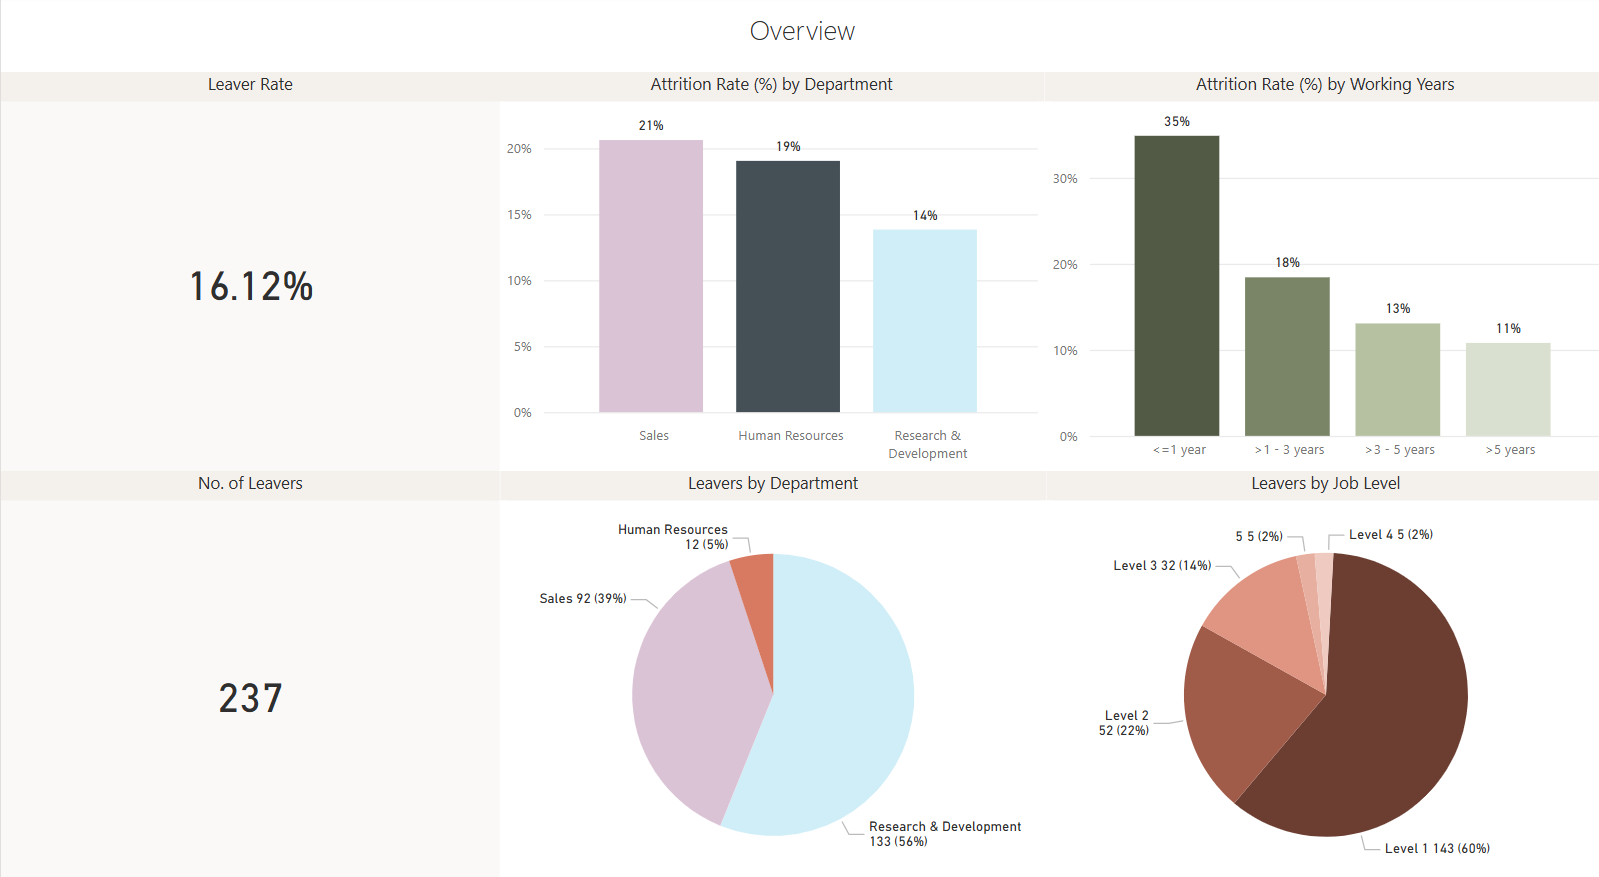

Layout of this report page (visuals, bound fields, positions):
{"tool":"powerbi","page":{"name":"Overview of Leavers","canvas":[1280,720],"ordinal":0},"visuals":[{"type":"card","title":"Leaver Rate","fields":{"Values":["HR Data_20250501.Atttrition Rate (%)"]},"box":[0,62.5,397.9,318.5],"z":0},{"type":"clusteredColumnChart","fields":{"Y":["HR Data_20250501.Atttrition Rate (%)"],"Category":["HR Data_20250501.Department"]},"box":[397.9,62.5,435.1,318.5],"z":1000},{"type":"clusteredColumnChart","title":"Attrition Rate (%) by Working Years","fields":{"Y":["HR Data_20250501.Atttrition Rate (%)"],"Category":["Legend_YearsInCompany.Legend_YearsInCompany"]},"box":[833,62.5,447.1,318.5],"z":2000},{"type":"card","title":"No. of Leavers","fields":{"Values":["Sum(HR Data_20250501.EmployeeCount)"]},"box":[0,381,397.9,339],"z":3000},{"type":"pieChart","title":"Leavers by Department","fields":{"Category":["HR Data_20250501.Department"],"Y":["Sum(HR Data_20250501.EmployeeCount)"]},"box":[399.1,381,435.1,339],"z":4000},{"type":"pieChart","title":"Leavers by Job Level","fields":{"Category":["HR Data_20250501.JobLevel"],"Y":["Sum(HR Data_20250501.EmployeeCount)"]},"box":[834.2,381,445.9,339],"z":5000},{"type":"textbox","box":[0,8.4,1278.9,39.7],"z":6000}]}

Visuals, with their boxes in screenshot pixels (x1, y1, x2, y2), scaled from the page's 1280x720 canvas onto the 1599x877 screenshot:
"Leaver Rate" card: 0/76/497/464
clusteredColumnChart - HR Data_20250501.Atttrition Rate (%) x HR Data_20250501.Department: 497/76/1041/464
"Attrition Rate (%) by Working Years" clusteredColumnChart: 1041/76/1598/464
"No. of Leavers" card: 0/464/497/876
"Leavers by Department" pieChart: 499/464/1042/876
"Leavers by Job Level" pieChart: 1042/464/1598/876
textbox: 0/10/1598/59
